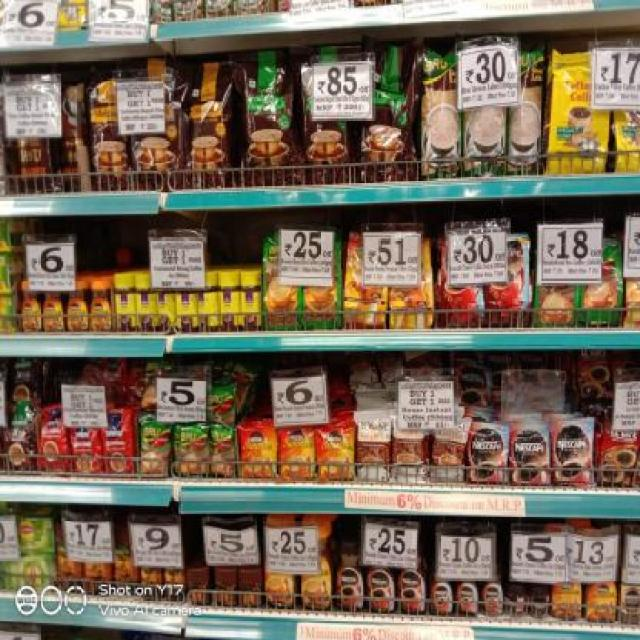Coffee: (486, 235, 528, 328), (439, 240, 484, 326), (390, 238, 432, 328), (345, 235, 386, 327), (300, 525, 334, 610), (263, 520, 295, 608), (552, 421, 594, 488), (584, 543, 616, 623), (510, 426, 550, 486), (552, 540, 582, 616), (396, 544, 429, 613), (468, 426, 507, 482), (364, 544, 396, 610), (316, 426, 355, 479), (240, 426, 278, 477), (338, 542, 365, 610), (279, 428, 315, 478), (456, 364, 490, 411), (429, 562, 454, 612), (457, 562, 480, 615), (620, 566, 640, 625), (482, 563, 504, 614), (66, 279, 88, 330), (42, 290, 64, 332), (92, 282, 110, 329), (21, 282, 39, 329), (528, 583, 550, 617), (506, 580, 526, 612)
